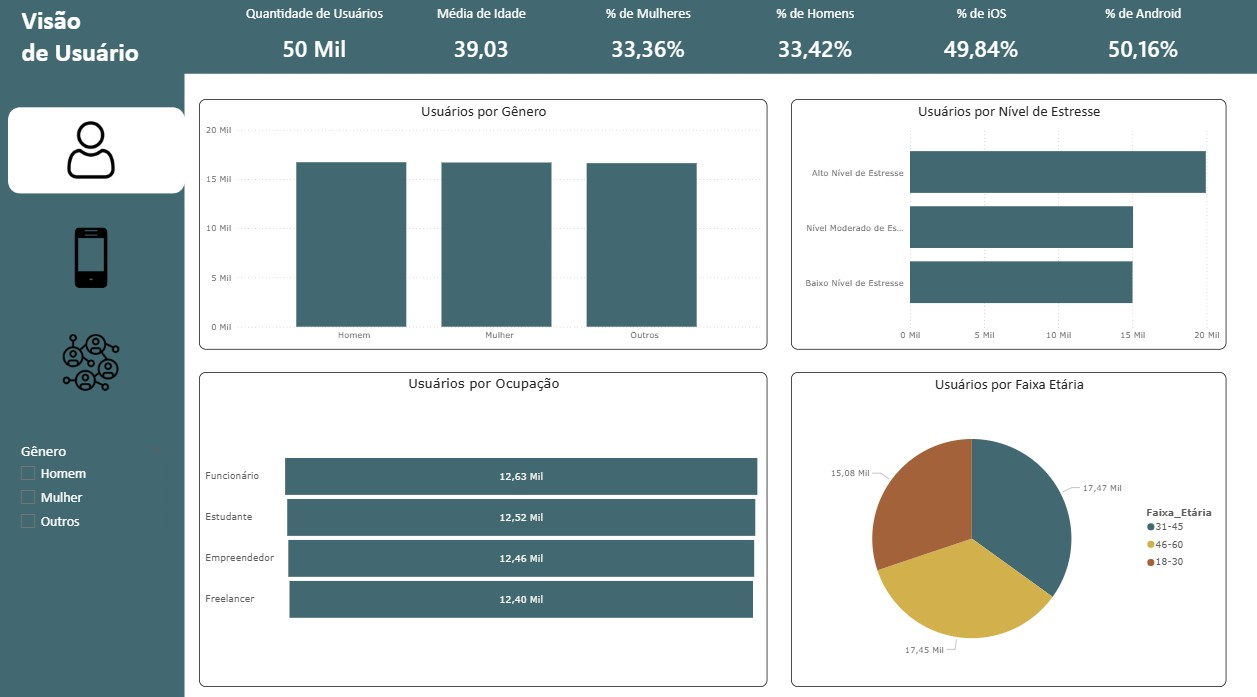

The dashboard page shown, as its layout file describes it:
{"tool":"powerbi","page":{"name":"Visão Usuario","canvas":[1800,1000],"ordinal":0},"visuals":[{"type":"textbox","box":[26.7,0,375,108.3],"z":1000},{"type":"cardVisual","title":"Média de Idade","fields":{"Data":["Avg(Smartphone_Usage_Productivity_Dataset_50000.Age)"]},"box":[570,6.7,238.3,95],"z":2000},{"type":"cardVisual","title":"Quantidade de Usuários","fields":{"Data":["CountNonNull(Smartphone_Usage_Productivity_Dataset_50000.User_ID)"]},"box":[331.7,6.7,238.3,95],"z":3000},{"type":"cardVisual","title":"% de Mulheres","fields":{"Data":["Medidas.% Mulheres"]},"box":[808.3,6.7,238.3,95],"z":4000},{"type":"cardVisual","title":"% de Homens","fields":{"Data":["Medidas.% Homens"]},"box":[1046.7,6.7,238.3,95],"z":5000},{"type":"funnel","title":"Usuários por Ocupação","fields":{"Category":["Smartphone_Usage_Productivity_Dataset_50000.Occupation"],"Y":["CountNonNull(Smartphone_Usage_Productivity_Dataset_50000.User_ID)"]},"box":[285,531.7,811.7,450],"z":6000},{"type":"pieChart","title":"Usuários por Faixa Etária","fields":{"Y":["CountNonNull(Smartphone_Usage_Productivity_Dataset_50000.User_ID)"],"Category":["Smartphone_Usage_Productivity_Dataset_50000.Faixa_Etária"]},"box":[1131.7,531.7,621.7,450],"z":7000},{"type":"columnChart","title":"Usuários por Gênero","fields":{"Y":["CountNonNull(Smartphone_Usage_Productivity_Dataset_50000.User_ID)"],"Category":["Smartphone_Usage_Productivity_Dataset_50000.Gender"]},"box":[285,141.7,811.7,358.3],"z":8000},{"type":"clusteredBarChart","title":"Usuários por Nível de Estresse","fields":{"Category":["Smartphone_Usage_Productivity_Dataset_50000.Nivel_Estresse"],"Y":["CountNonNull(Smartphone_Usage_Productivity_Dataset_50000.User_ID)"]},"box":[1131.7,141.7,621.7,358.3],"z":9000},{"type":"cardVisual","title":"% de iOS","fields":{"Data":["Medidas.% Ios"]},"box":[1285,6.7,238.3,95],"z":10000},{"type":"cardVisual","title":"% de Android","fields":{"Data":["Medidas.% Android"]},"box":[1515,6.7,238.3,95],"z":11000},{"type":"actionButton","box":[85,321.7,95,105],"z":12000},{"type":"actionButton","box":[80,461.7,100,113.3],"z":13000},{"type":"slicer","fields":{"Values":["Smartphone_Usage_Productivity_Dataset_50000.Gender"]},"box":[18.6,625.7,227.1,374.3],"z":14000}]}

Visuals, with their boxes in screenshot pixels (x1, y1, x2, y2), scaled from the page's 1800x1000 canvas onto the 1257x697 screenshot:
textbox: 19, 0, 281, 75
"Média de Idade" cardVisual: 398, 5, 564, 71
"Quantidade de Usuários" cardVisual: 232, 5, 398, 71
"% de Mulheres" cardVisual: 564, 5, 731, 71
"% de Homens" cardVisual: 731, 5, 897, 71
"Usuários por Ocupação" funnel: 199, 371, 766, 684
"Usuários por Faixa Etária" pieChart: 790, 371, 1224, 684
"Usuários por Gênero" columnChart: 199, 99, 766, 348
"Usuários por Nível de Estresse" clusteredBarChart: 790, 99, 1224, 348
"% de iOS" cardVisual: 897, 5, 1064, 71
"% de Android" cardVisual: 1058, 5, 1224, 71
actionButton: 59, 224, 126, 297
actionButton: 56, 322, 126, 401
slicer - Smartphone_Usage_Productivity_Dataset_50000.Gender: 13, 436, 172, 696
